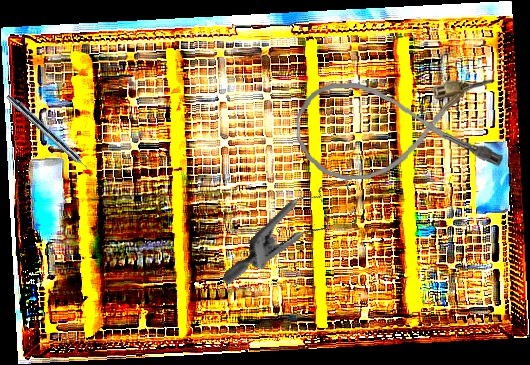Cannula: (292, 75, 504, 183)
Handpiece: (3, 92, 97, 179)
Speculum: (221, 149, 372, 323)
